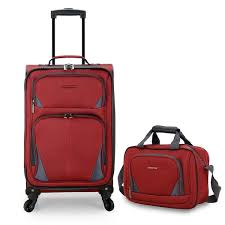suitcase: (20, 7, 117, 213)
